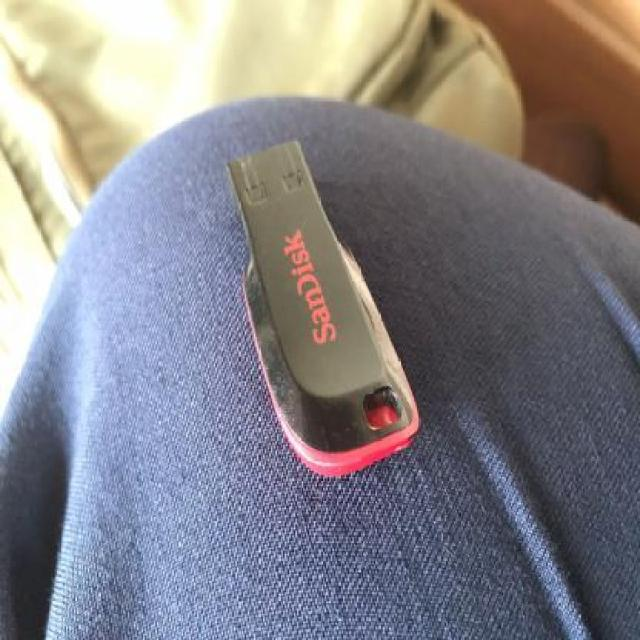Flashdisk: (214, 121, 426, 478)
